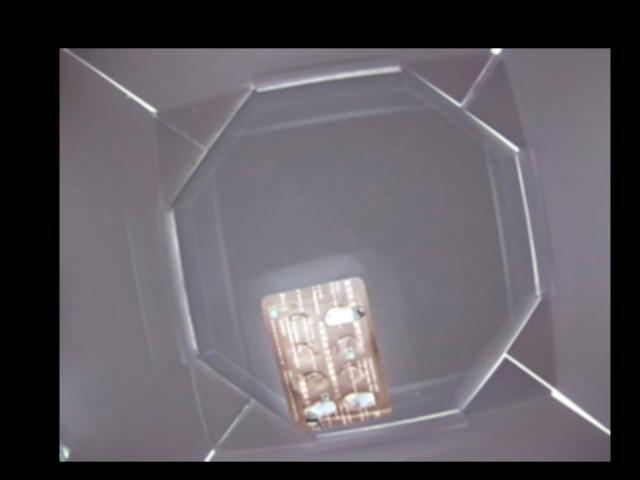Medicine: (258, 275, 391, 434)
